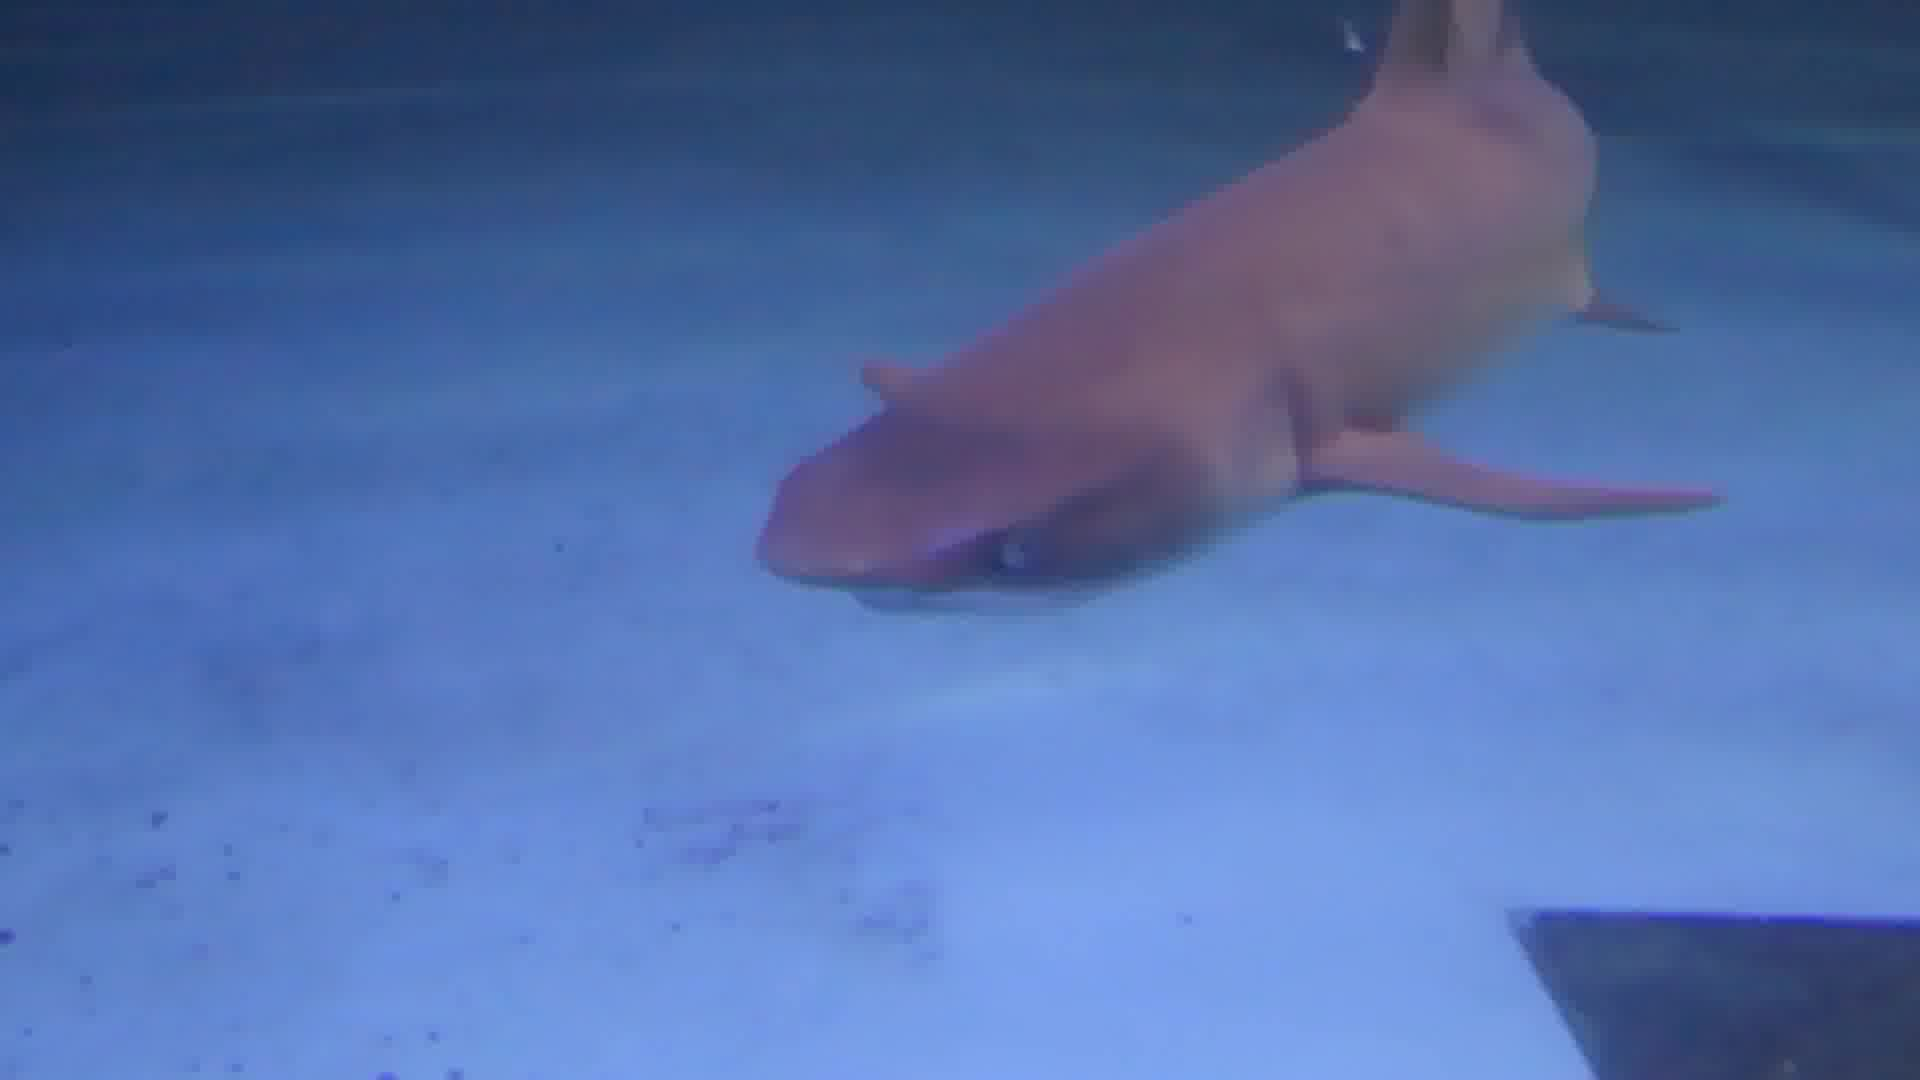Triaenodon obesus: (715, 4, 1739, 603)
